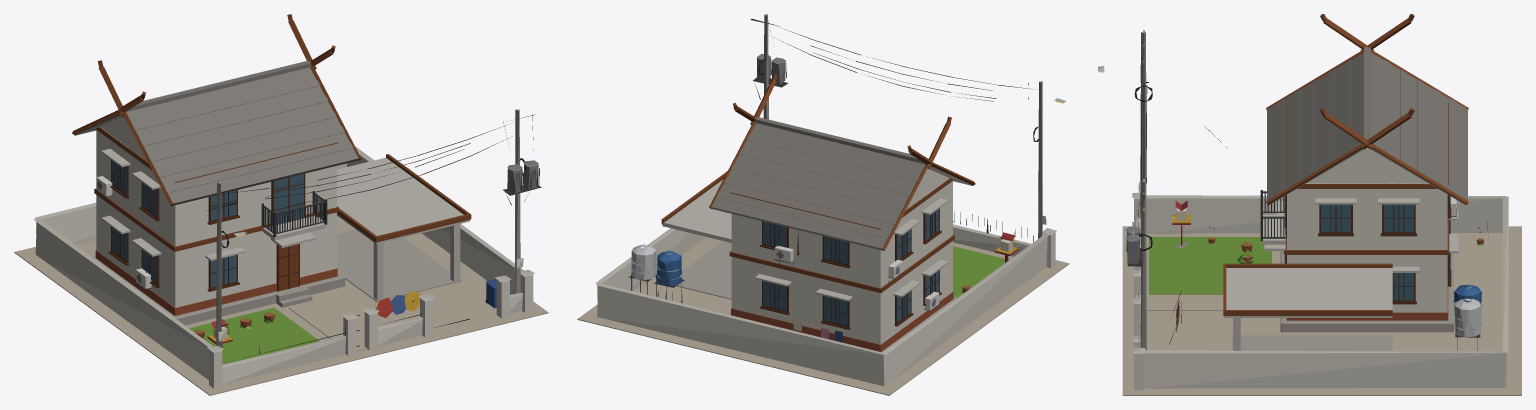
The model's file is home_2.glb.
3 views of the same model, side by side, from view 1: azimuth 30°, elevation 25°; view 2: azimuth 150°, elevation 25°; view 3: azimuth 270°, elevation 25° (orthographic). The views are drawn at different scales.
Visible parts, largest first — view 1: body, windows; view 2: body, windows; view 3: body, windows.
Part boxes in pixels (bbox=[...]): body: bbox=[14, 14, 548, 395]; windows: bbox=[111, 160, 303, 287]; body: bbox=[577, 14, 1069, 395]; windows: bbox=[763, 101, 1064, 325]; body: bbox=[1098, 14, 1521, 395]; windows: bbox=[1098, 71, 1449, 300].
Bounding box in the file's own units: 15.9 × 10.41 × 16.88.
